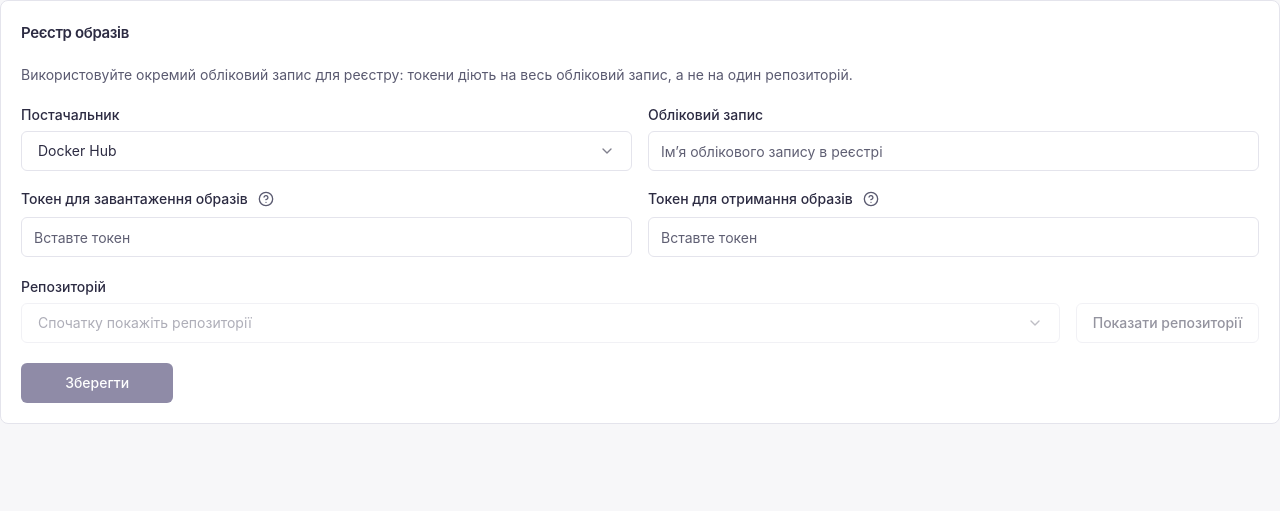
Test: ImageRegistryCard › shows an empty repository list as information, not an error
Type "icebox" into the field labelled "Обліковий запис" at x=954, y=151, box left=648, top=131, right=1259, bottom=171
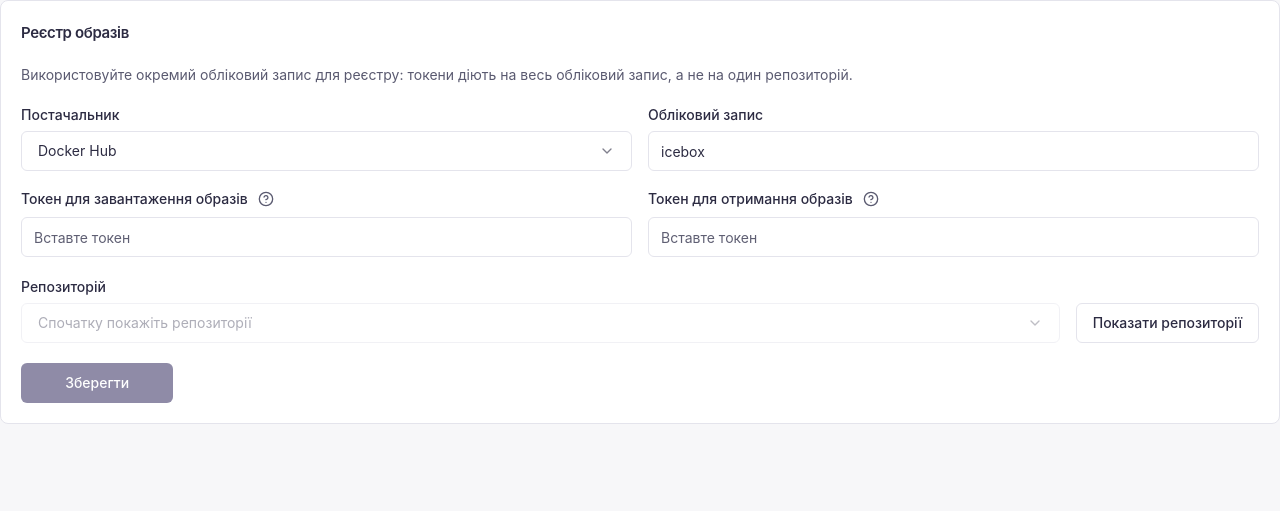
Click the button "Показати репозиторії" at x=1167, y=323, box left=1076, top=303, right=1259, bottom=343
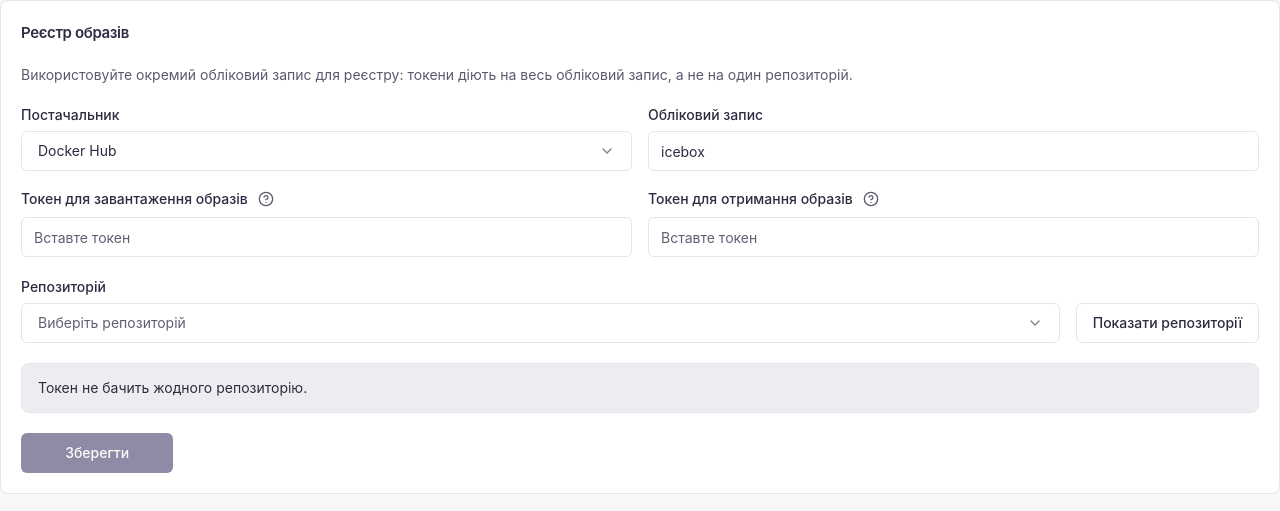
Expected: the text "Токен не бачить жодного репозиторію." is shown, left=21, top=363, right=1259, bottom=413
